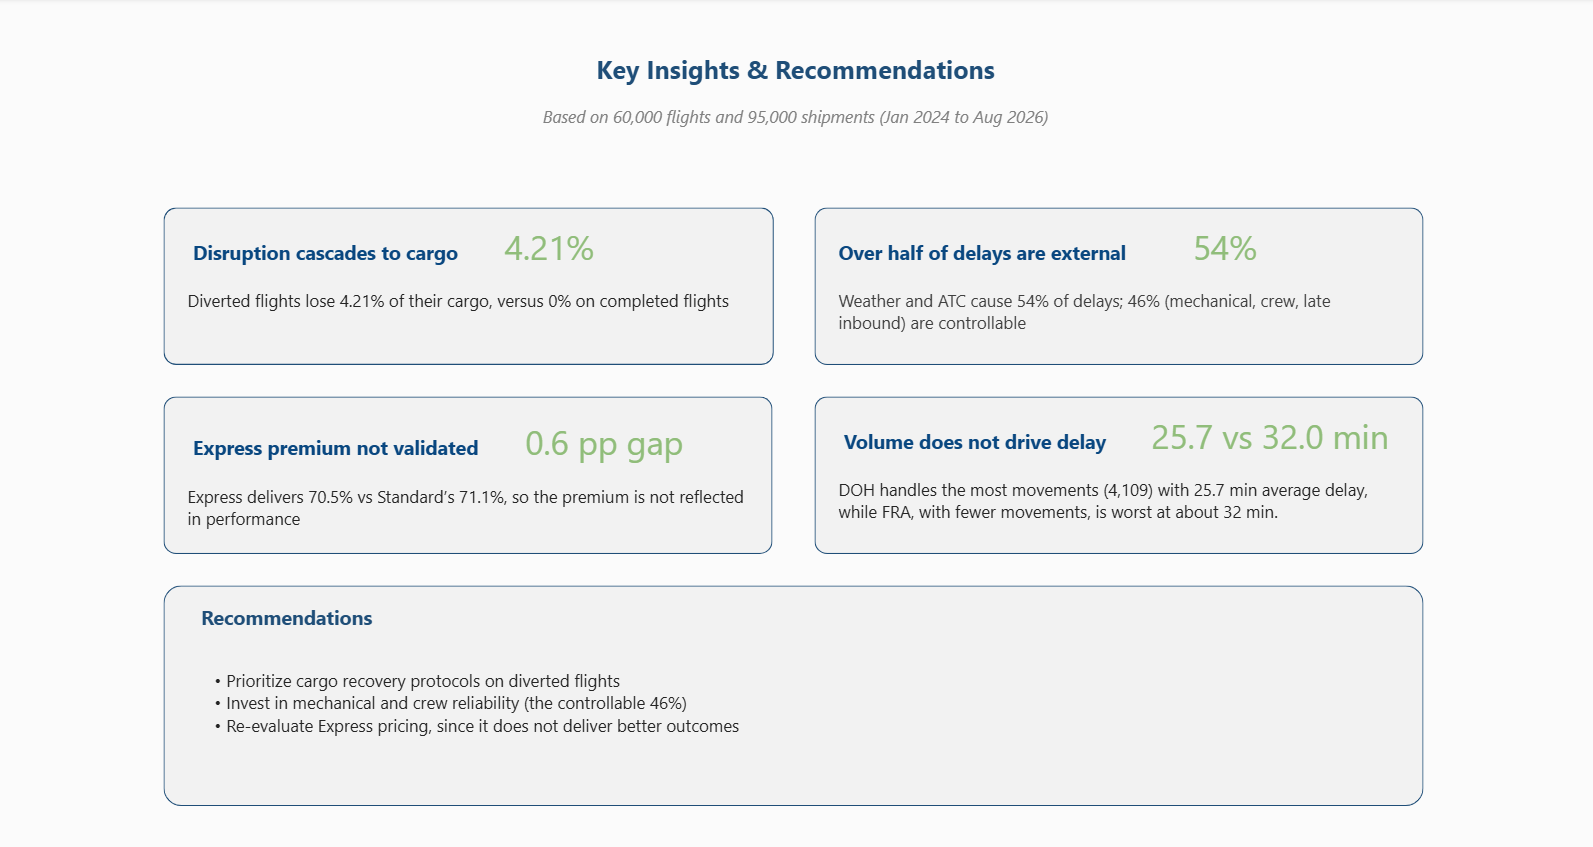

This screenshot's page, from the dashboard's own definition file:
{"tool":"powerbi","page":{"name":"Key Insights","canvas":[1920,1080],"ordinal":0},"visuals":[{"type":"shape","box":[356,250,581.2,149.9],"z":0,"group":"g6"},{"type":"shape","box":[976,250,580,150],"z":0,"group":"g7"},{"type":"shape","box":[356,430,580,150],"z":0,"group":"g8"},{"type":"shape","box":[976,430,580,150],"z":0,"group":"g9"},{"type":"shape","box":[356,610,1200,210],"z":0,"group":"g5"},{"type":"group","id":"g1","title":"Group 2","box":[356,250,581.2,149.9],"z":1000},{"type":"textbox","box":[378.8,265.2,535.5,119.6],"z":1000,"group":"g6"},{"type":"textbox","box":[998.8,265.2,534.4,119.6],"z":1000,"group":"g7"},{"type":"textbox","box":[378.8,445.2,534.4,119.6],"z":1000,"group":"g8"},{"type":"textbox","box":[998.8,445.2,534.4,119.6],"z":1000,"group":"g9"},{"type":"textbox","box":[392.3,626.9,1060.4,169.8],"z":1000,"group":"g5"},{"type":"group","id":"g2","title":"Group 2","box":[976,250,580,150],"z":2000},{"type":"group","id":"g3","title":"Group 2","box":[356,430,580,150],"z":3000},{"type":"group","id":"g4","title":"Group 2","box":[976,430,580,150],"z":4000},{"type":"group","id":"g5","title":"Group 2","box":[356,610,1200,210],"z":5000},{"type":"textbox","box":[488,102,938.3,108.3],"z":6000},{"type":"shape","box":[0,0,178.6,1080],"z":6001},{"type":"group","id":"g6","title":"Group 1","box":[356,250,581.2,149.9],"z":6001,"group":"g1"},{"type":"group","id":"g7","title":"Group 3","box":[976,250,580,150],"z":6001,"group":"g2"},{"type":"group","id":"g8","title":"Group 4","box":[356,430,580,150],"z":6001,"group":"g3"},{"type":"group","id":"g9","title":"Group 5","box":[976,430,580,150],"z":6001,"group":"g4"},{"type":"pageNavigator","box":[10,860,158,200],"z":6002}]}

Visuals, with their boxes on the page's 1920x1080 design canvas (x1, y1, x2, y2). These are canvas units, not pixel positions in the 1593x847 screenshot, which may show the page scaled, cropped or inside an application window:
shape: select_region(356, 250, 937, 400)
shape: select_region(976, 250, 1556, 400)
shape: select_region(356, 430, 936, 580)
shape: select_region(976, 430, 1556, 580)
shape: select_region(356, 610, 1556, 820)
"Group 2" group: select_region(356, 250, 937, 400)
textbox: select_region(379, 265, 914, 385)
textbox: select_region(999, 265, 1533, 385)
textbox: select_region(379, 445, 913, 565)
textbox: select_region(999, 445, 1533, 565)
textbox: select_region(392, 627, 1453, 797)
"Group 2" group: select_region(976, 250, 1556, 400)
"Group 2" group: select_region(356, 430, 936, 580)
"Group 2" group: select_region(976, 430, 1556, 580)
"Group 2" group: select_region(356, 610, 1556, 820)
textbox: select_region(488, 102, 1426, 210)
shape: select_region(0, 0, 179, 1080)
"Group 1" group: select_region(356, 250, 937, 400)
"Group 3" group: select_region(976, 250, 1556, 400)
"Group 4" group: select_region(356, 430, 936, 580)
"Group 5" group: select_region(976, 430, 1556, 580)
pageNavigator: select_region(10, 860, 168, 1060)
